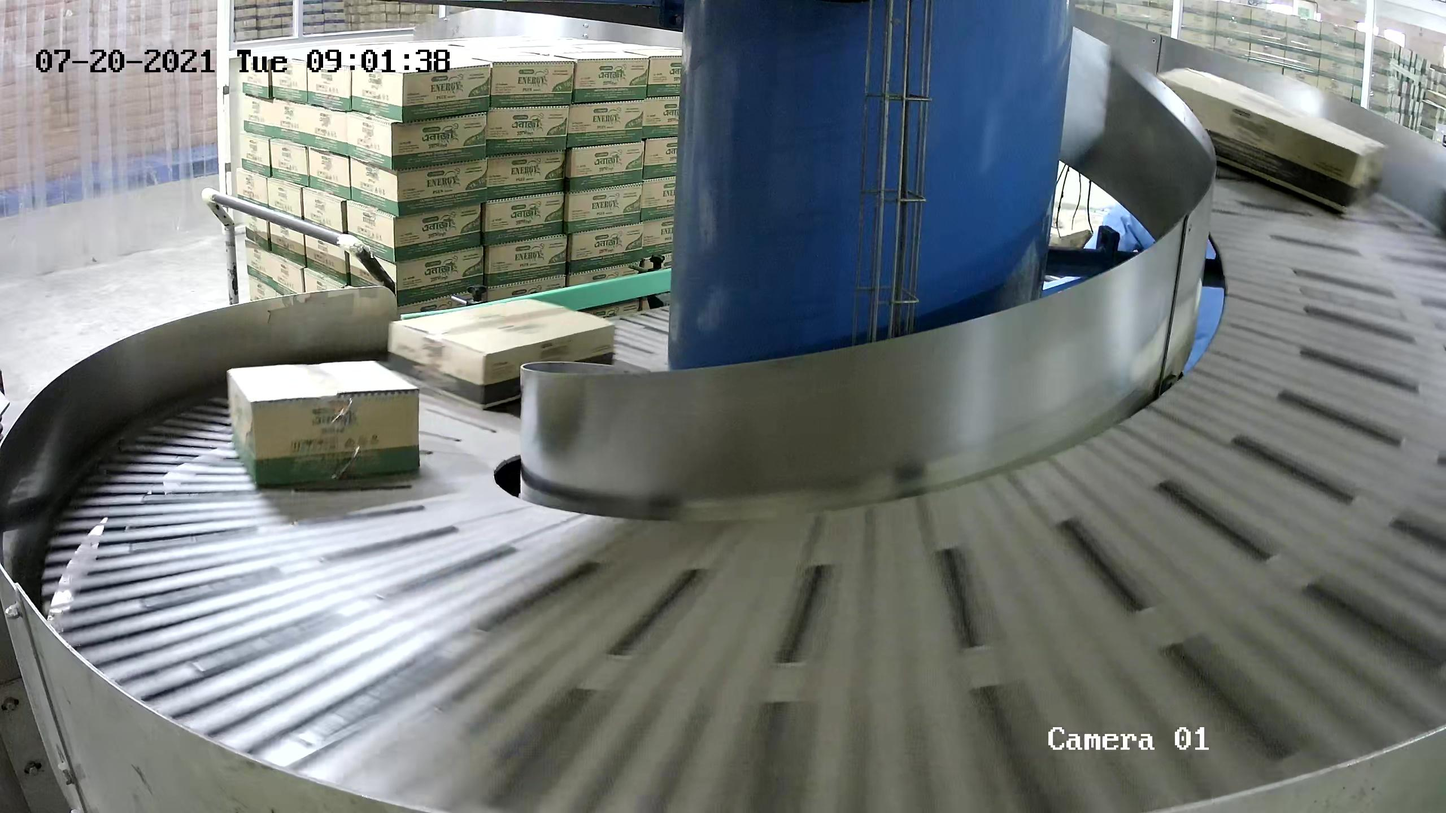Box: (1152, 66, 1387, 215), (387, 297, 617, 410), (225, 359, 422, 487)
